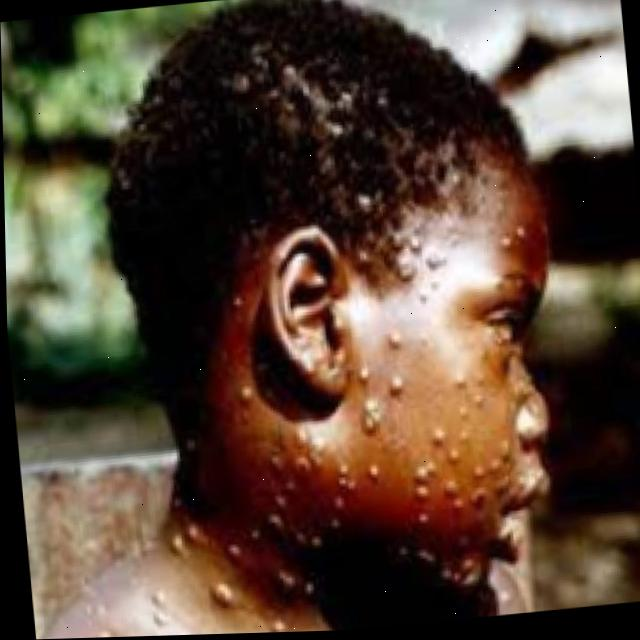Eczema: (52, 195, 579, 639)
